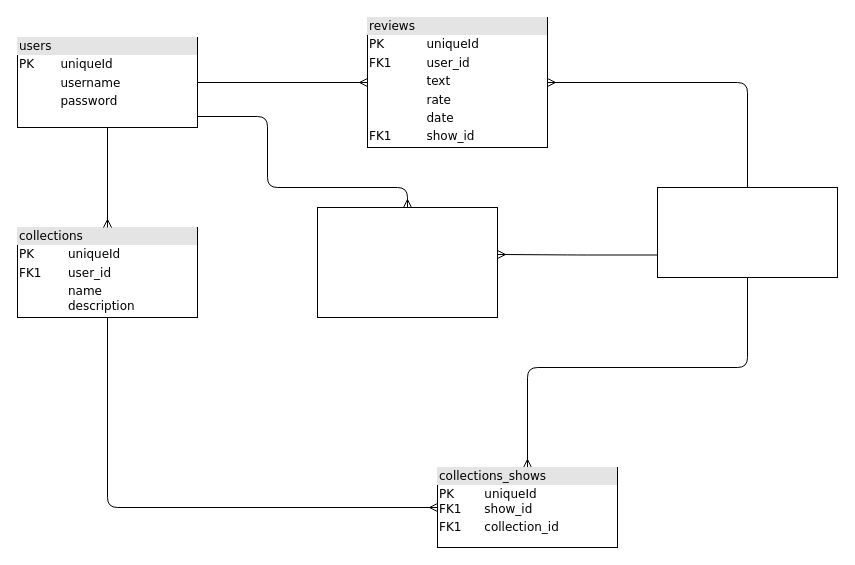
The diagram is 855 pixels wide and 565 high, and some of its shapes have lost their labels. The centre of each missing label's shape, as x and y in pixels:
"comments PK uniqueId FK1 user_id FK1 text timestamp show_id" belongs at (407,262).
"shows PK uniqueId title img_small_url" belongs at (747,232).
